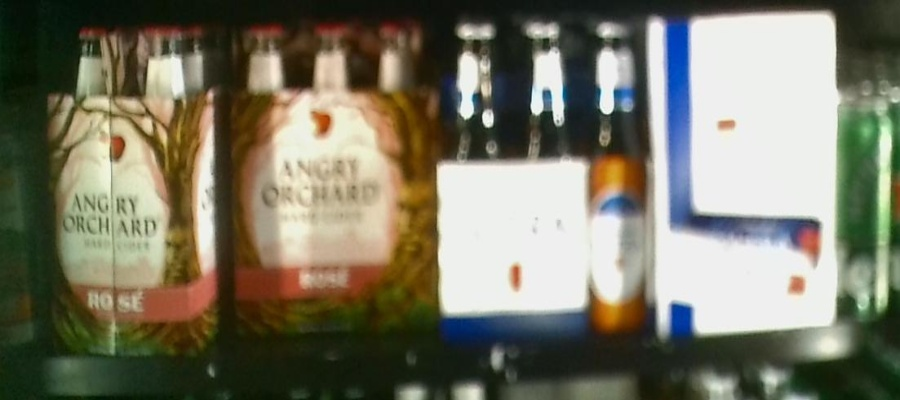bottle: (440, 21, 647, 337), (228, 17, 437, 328), (47, 16, 227, 347), (646, 17, 838, 326)
